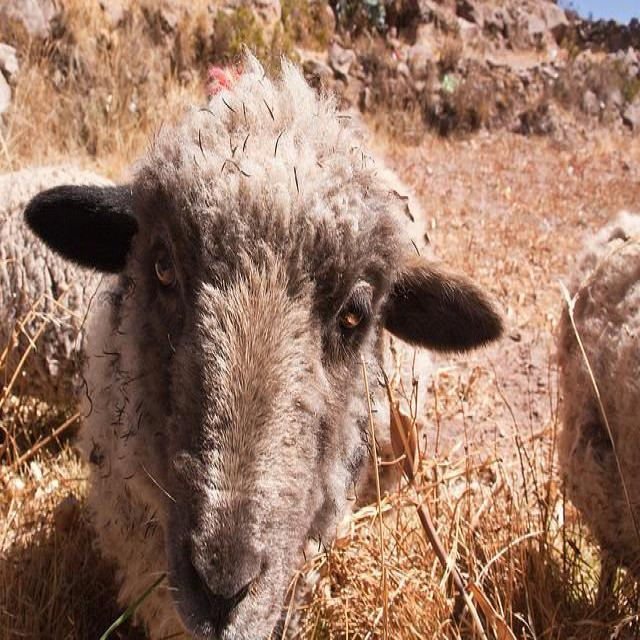Sheep: (23, 51, 506, 638), (559, 213, 639, 612)
